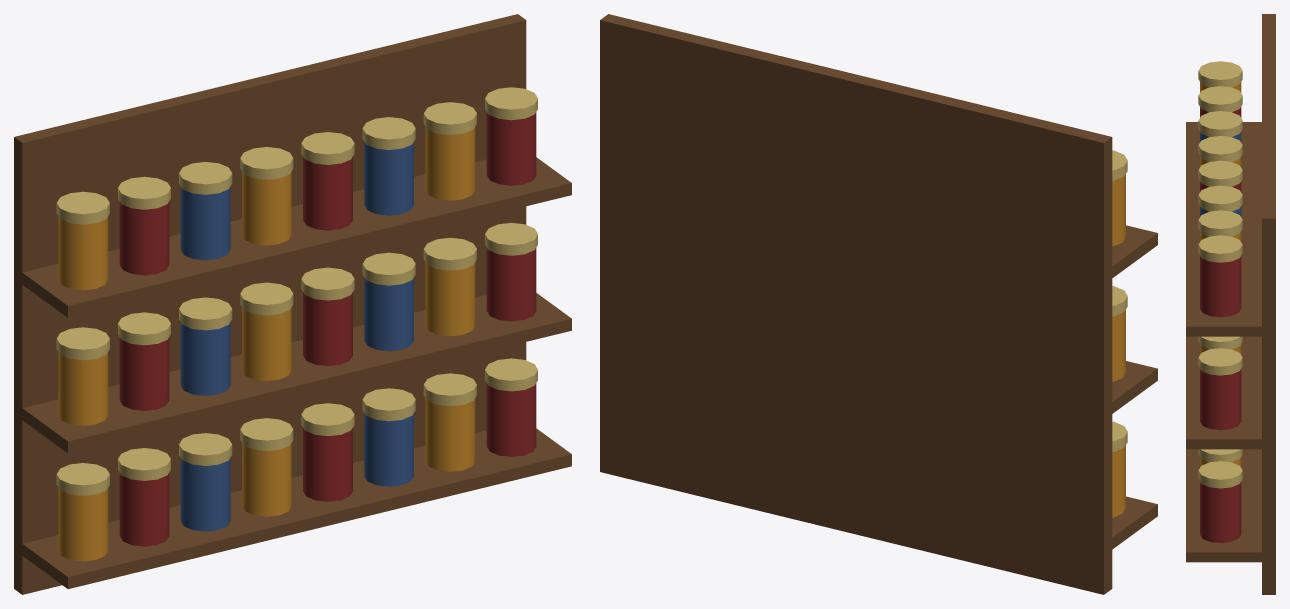
Rendered from jar-wall.glb.
3 views of the same model, side by side, from view 1: azimuth 30°, elevation 25°; view 2: azimuth 150°, elevation 25°; view 3: azimuth 270°, elevation 25° (orthographic). The views are drawn at different scales.
Visible parts, largest first — view 1: part-wood, part-brass, part-jar-0, part-jar-2, part-jar-4; view 2: part-wood, part-jar-0, part-brass; view 3: part-wood, part-brass, part-jar-2, part-jar-0, part-jar-4.
Part boxes in pixels (x1,y1,x2,y2): part-wood: (14,14,571,594); part-brass: (56,87,537,495); part-jar-0: (58,127,475,561); part-jar-2: (119,112,536,546); part-jar-4: (180,142,413,531); part-wood: (600,14,1157,594); part-jar-0: (1112,174,1125,517); part-brass: (1112,150,1127,451); part-wood: (1186,14,1275,594); part-brass: (1198,61,1242,488); part-jar-2: (1200,107,1241,542); part-jar-0: (1200,82,1241,467); part-jar-4: (1200,132,1241,216).
Size of the model in its own units: 70 by 60 by 13.
